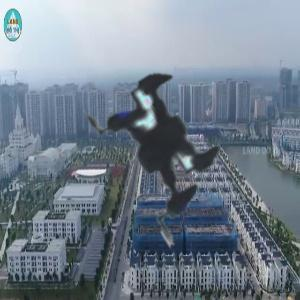drone: (24, 7, 299, 282)
